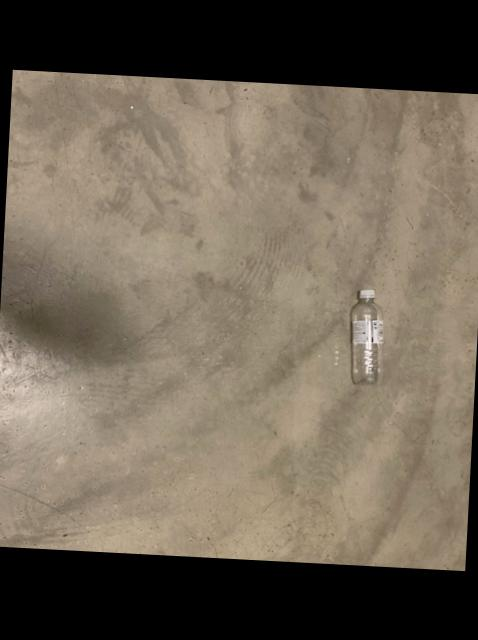plastic: (349, 288, 382, 383)
